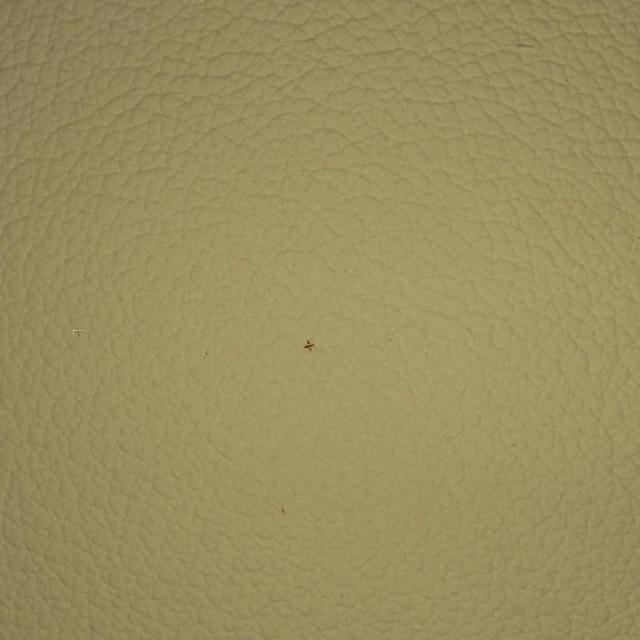Scratch: (229, 264, 383, 414)
